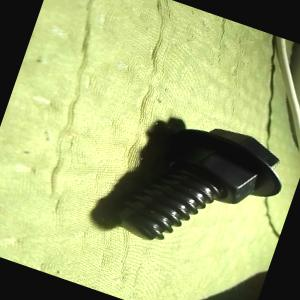parafuso: (110, 101, 295, 276)
